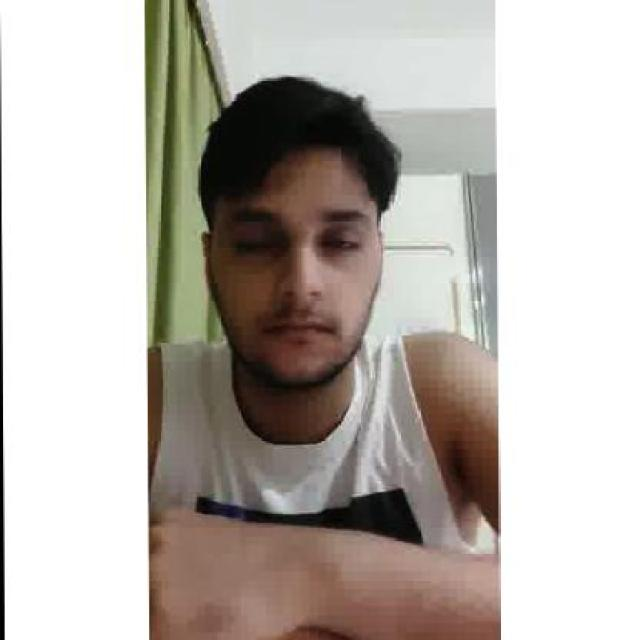inattentif: (198, 74, 387, 391)
